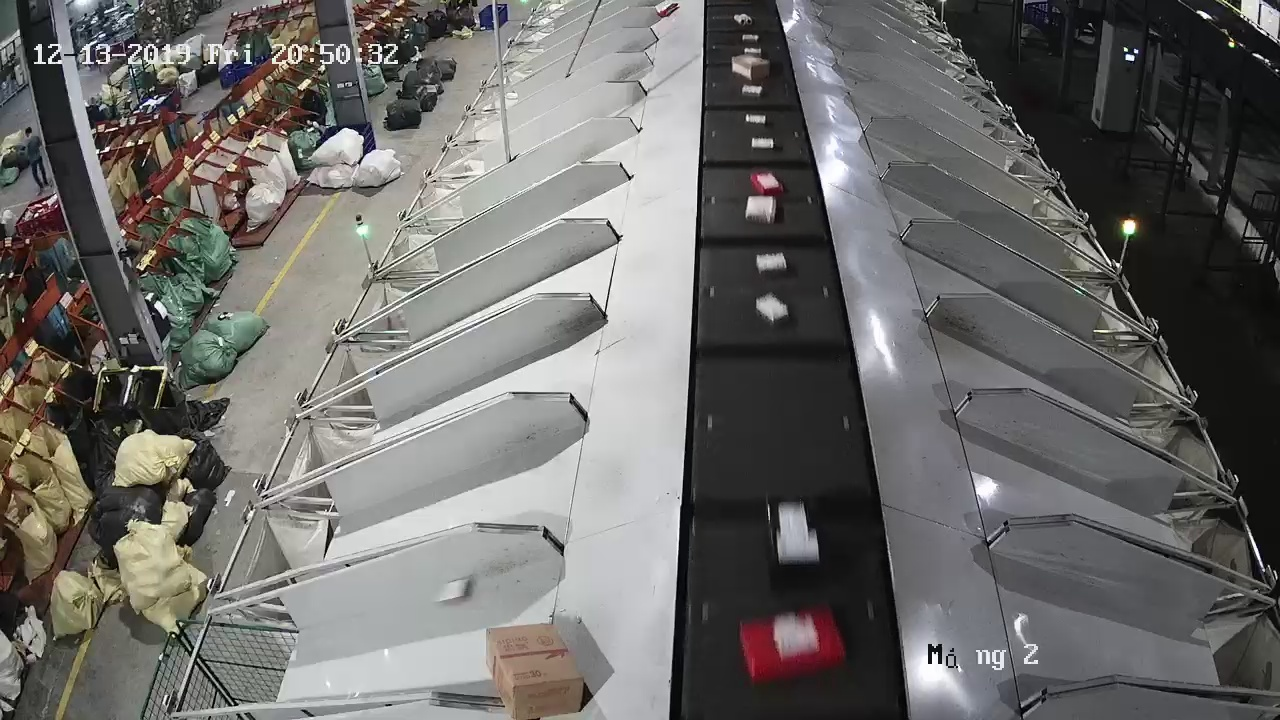parcel: (432, 576, 471, 603)
